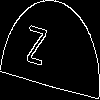Z: (25, 24, 47, 76)
